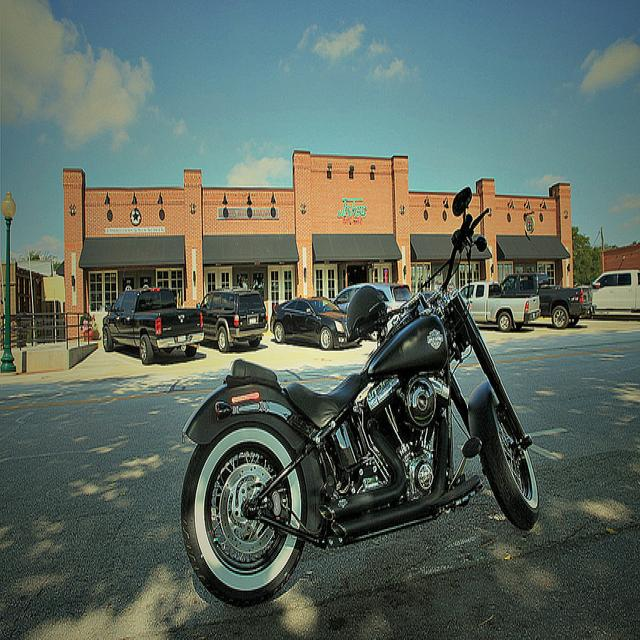motor: (177, 186, 543, 611)
